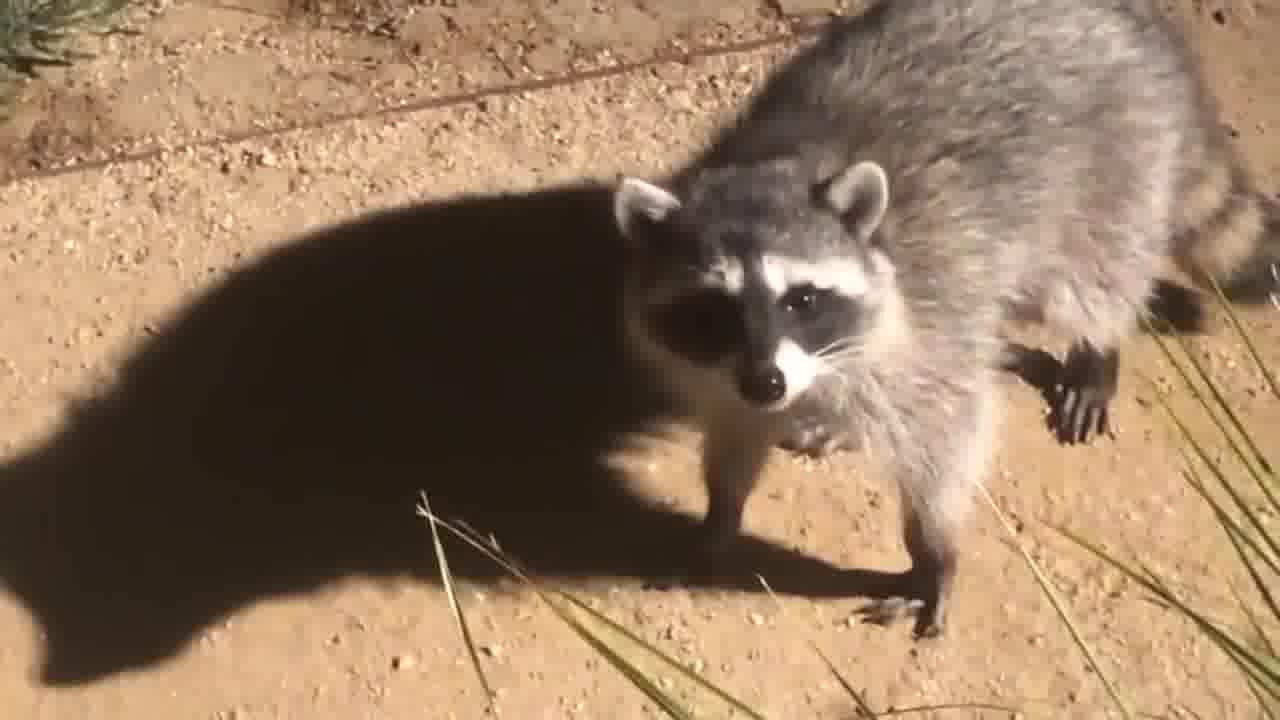raccoon: (610, 2, 1277, 640)
